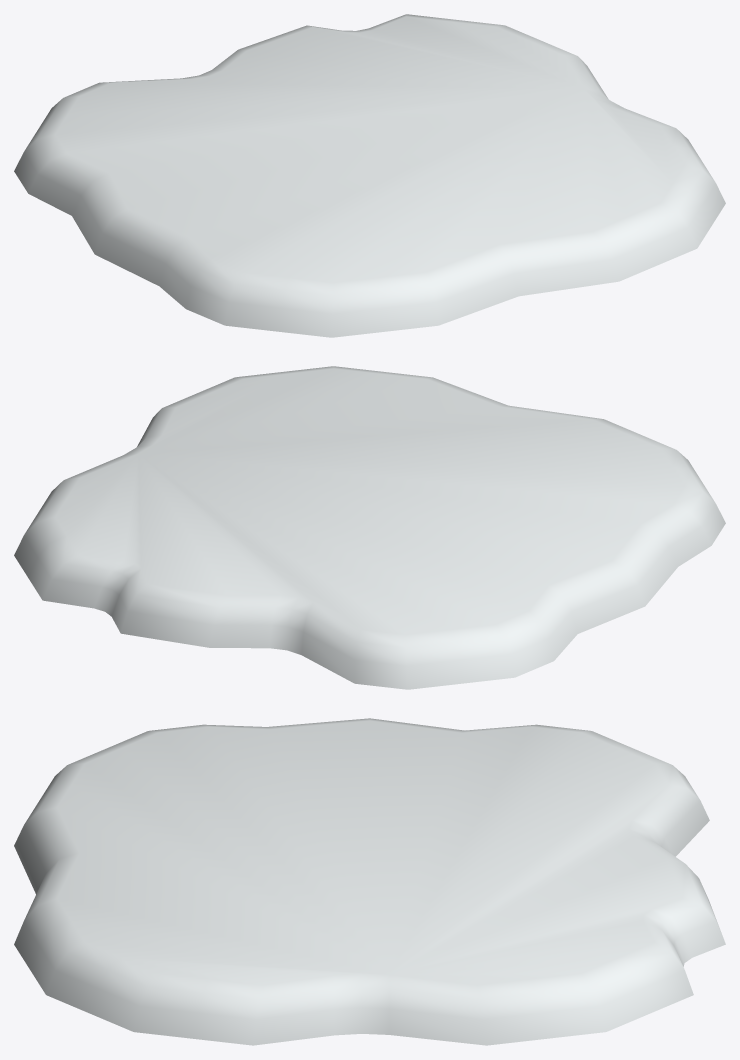
File: Floor (Snow 2).fbx
The picture shows the model from 3 angles, top to bottom: view 1: azimuth 30°, elevation 25°; view 2: azimuth 150°, elevation 25°; view 3: azimuth 270°, elevation 25°; orthographic projection. The views are drawn at different scales.
Parts seen in each view (by area): view 1: Floor (Snow 2); view 2: Floor (Snow 2); view 3: Floor (Snow 2).
Part boxes in pixels (x1,y1,x2,y2): Floor (Snow 2): (14,14,725,337); Floor (Snow 2): (14,366,725,689); Floor (Snow 2): (14,718,725,1045).
Size of the model in its own units: 3492 by 228 by 3492.
